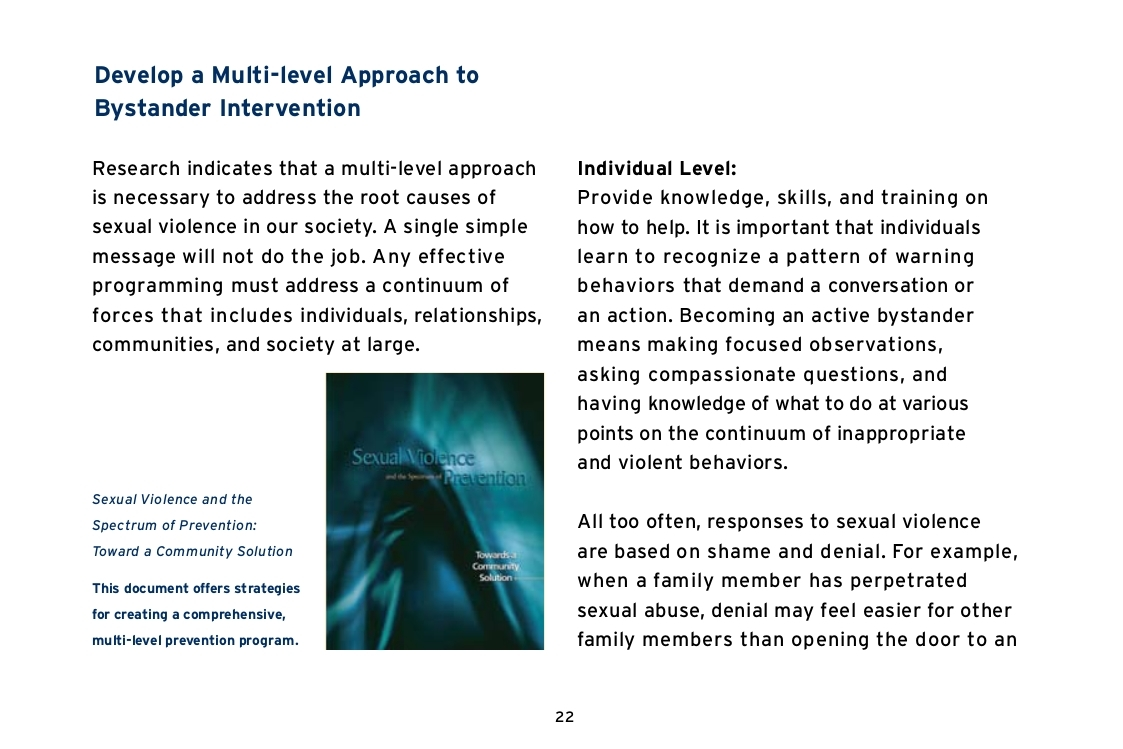figure: (324, 372, 544, 649)
